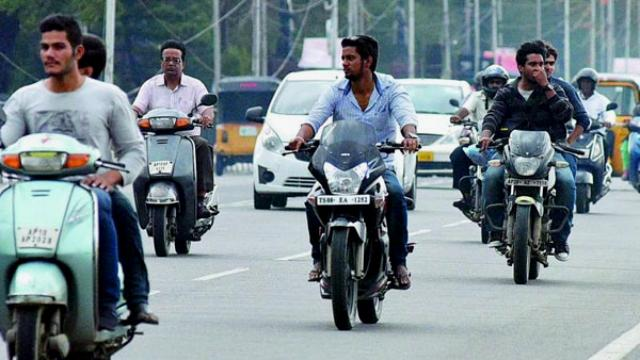licensePlate: (14, 223, 60, 254), (312, 194, 372, 204), (505, 179, 551, 192), (153, 160, 181, 178)
motorcycle: (0, 11, 155, 360), (294, 30, 425, 337), (477, 35, 583, 282), (136, 29, 226, 257)
withHelmet: (483, 66, 510, 94), (578, 69, 602, 94)
withoutHelmet: (37, 15, 84, 78), (339, 36, 383, 81), (80, 23, 113, 78), (519, 40, 546, 83), (159, 44, 186, 74), (548, 42, 560, 78)
